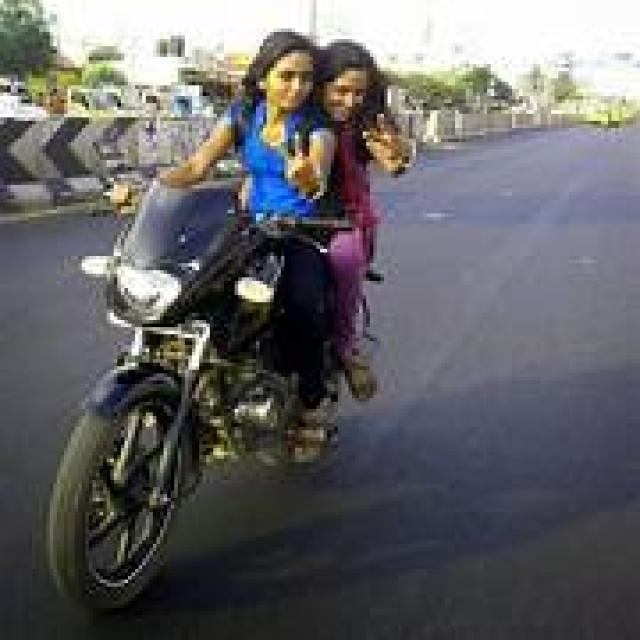Two Wheeler: (48, 182, 295, 609)
